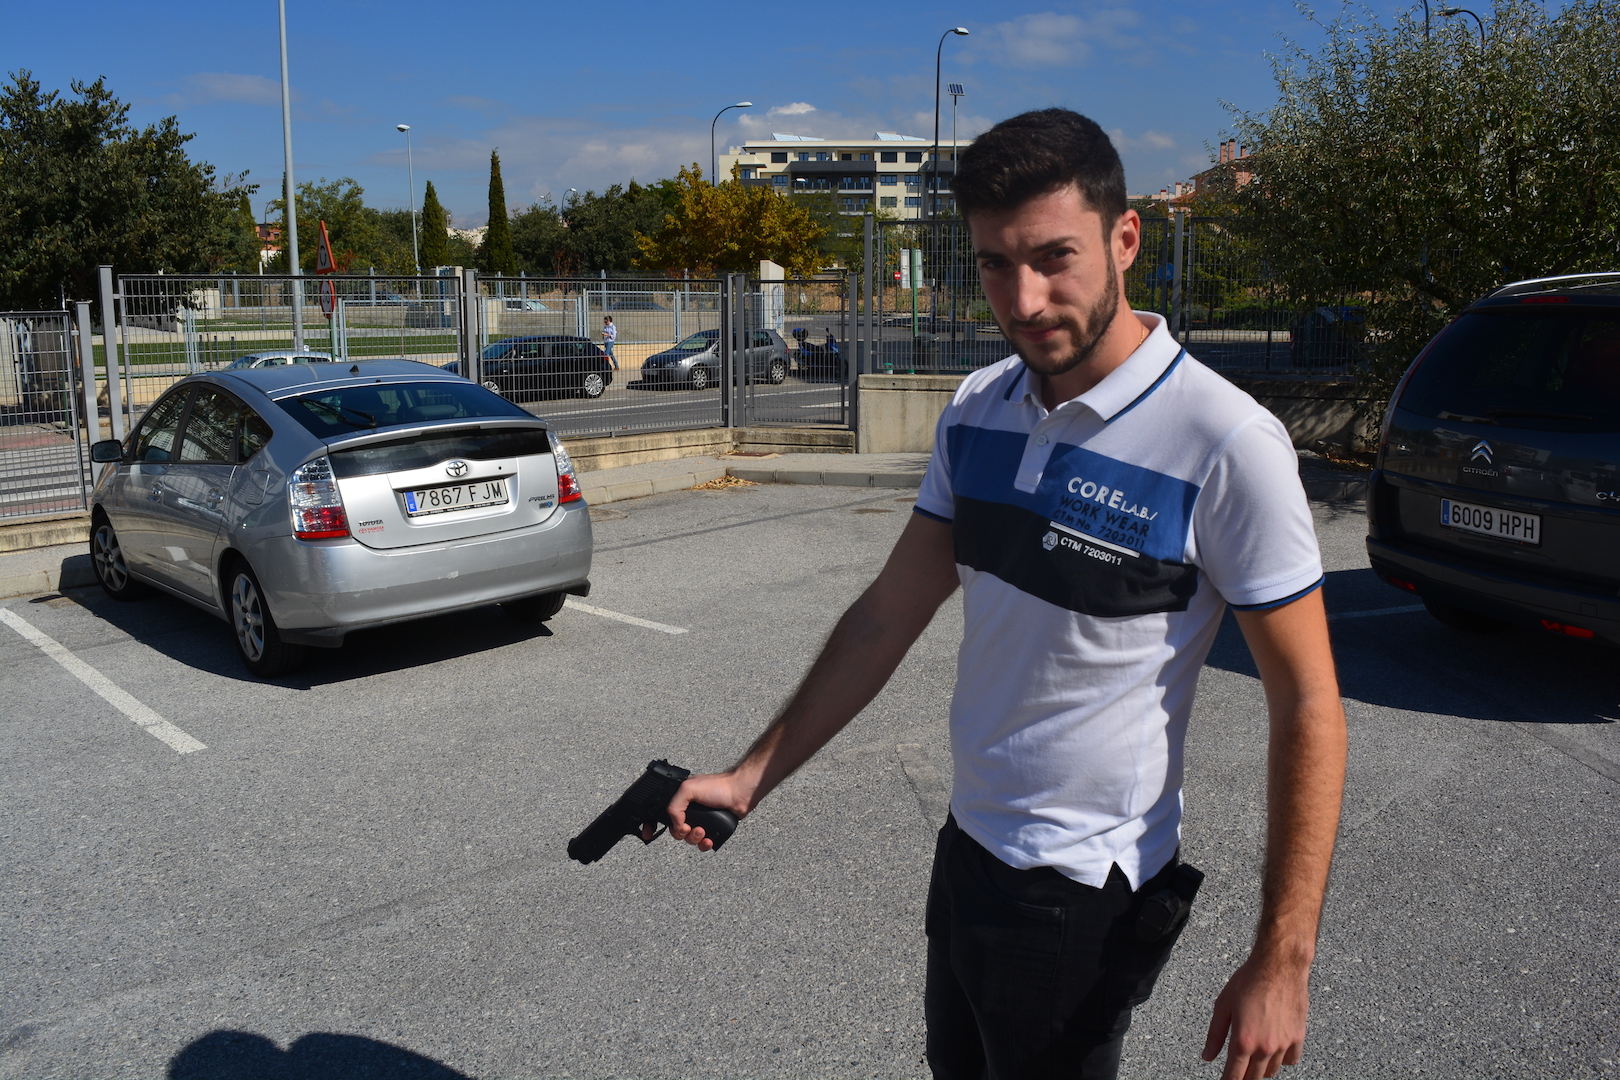pistol: (567, 756, 741, 867)
